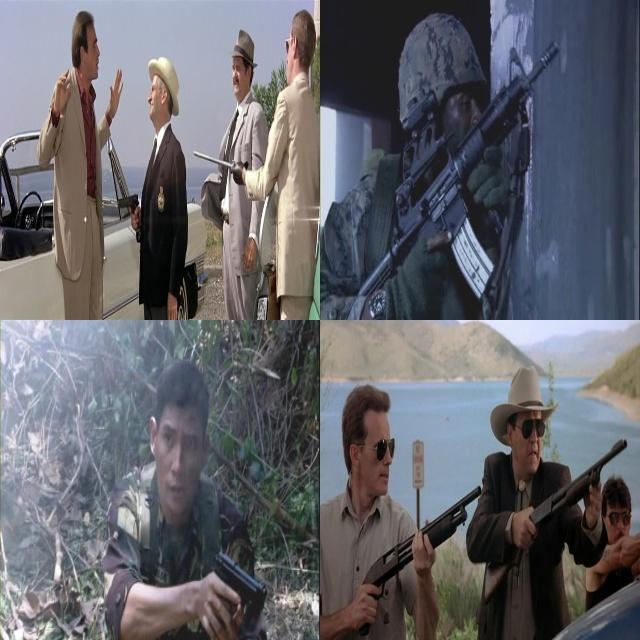gun-knife-thesis - v11 Yolov5 augmented: (344, 35, 563, 315), (476, 432, 633, 600), (346, 472, 484, 636), (201, 542, 269, 639), (115, 187, 140, 236)
